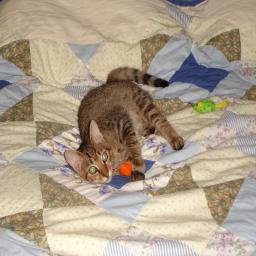catnose: (104, 171, 110, 180)
